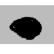correct: (5, 13, 45, 42)
